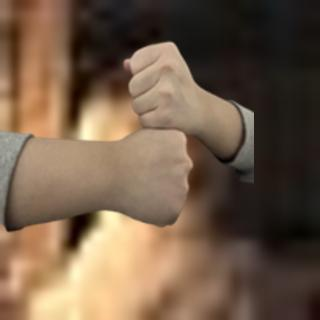CAREFUL: (26, 41, 248, 226)
